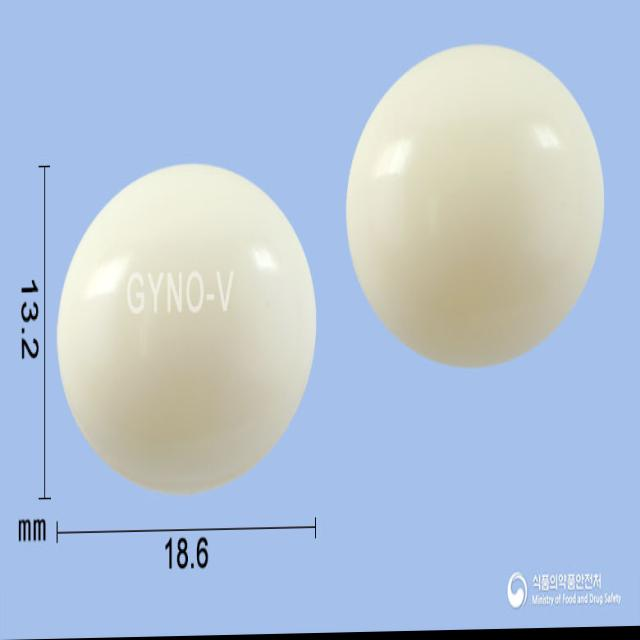Gyno-V Vaginal Soft Cap: (57, 156, 319, 496)
